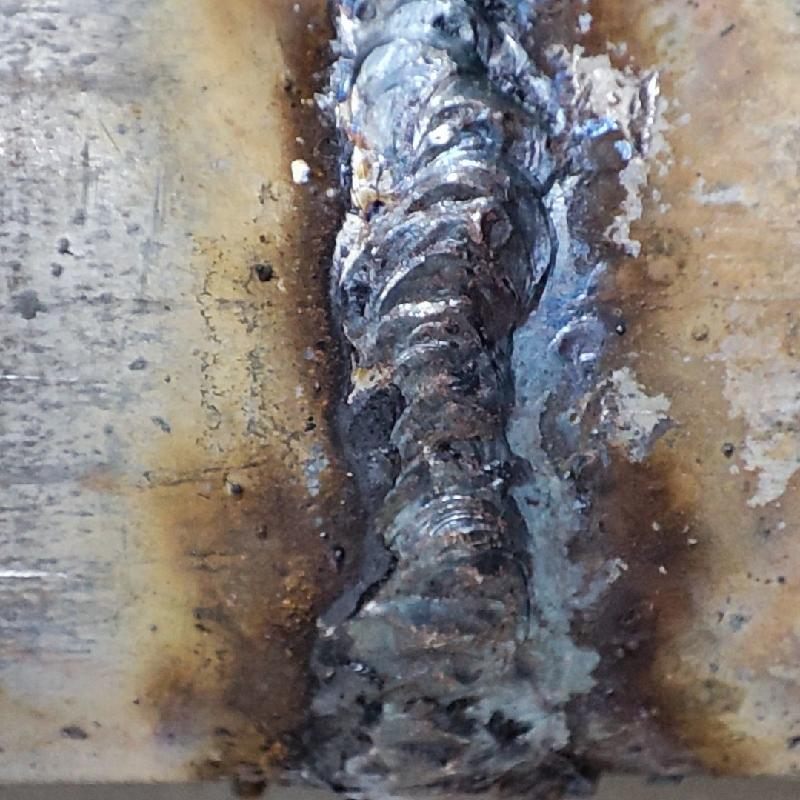Surface_pores: (433, 429, 469, 473)
